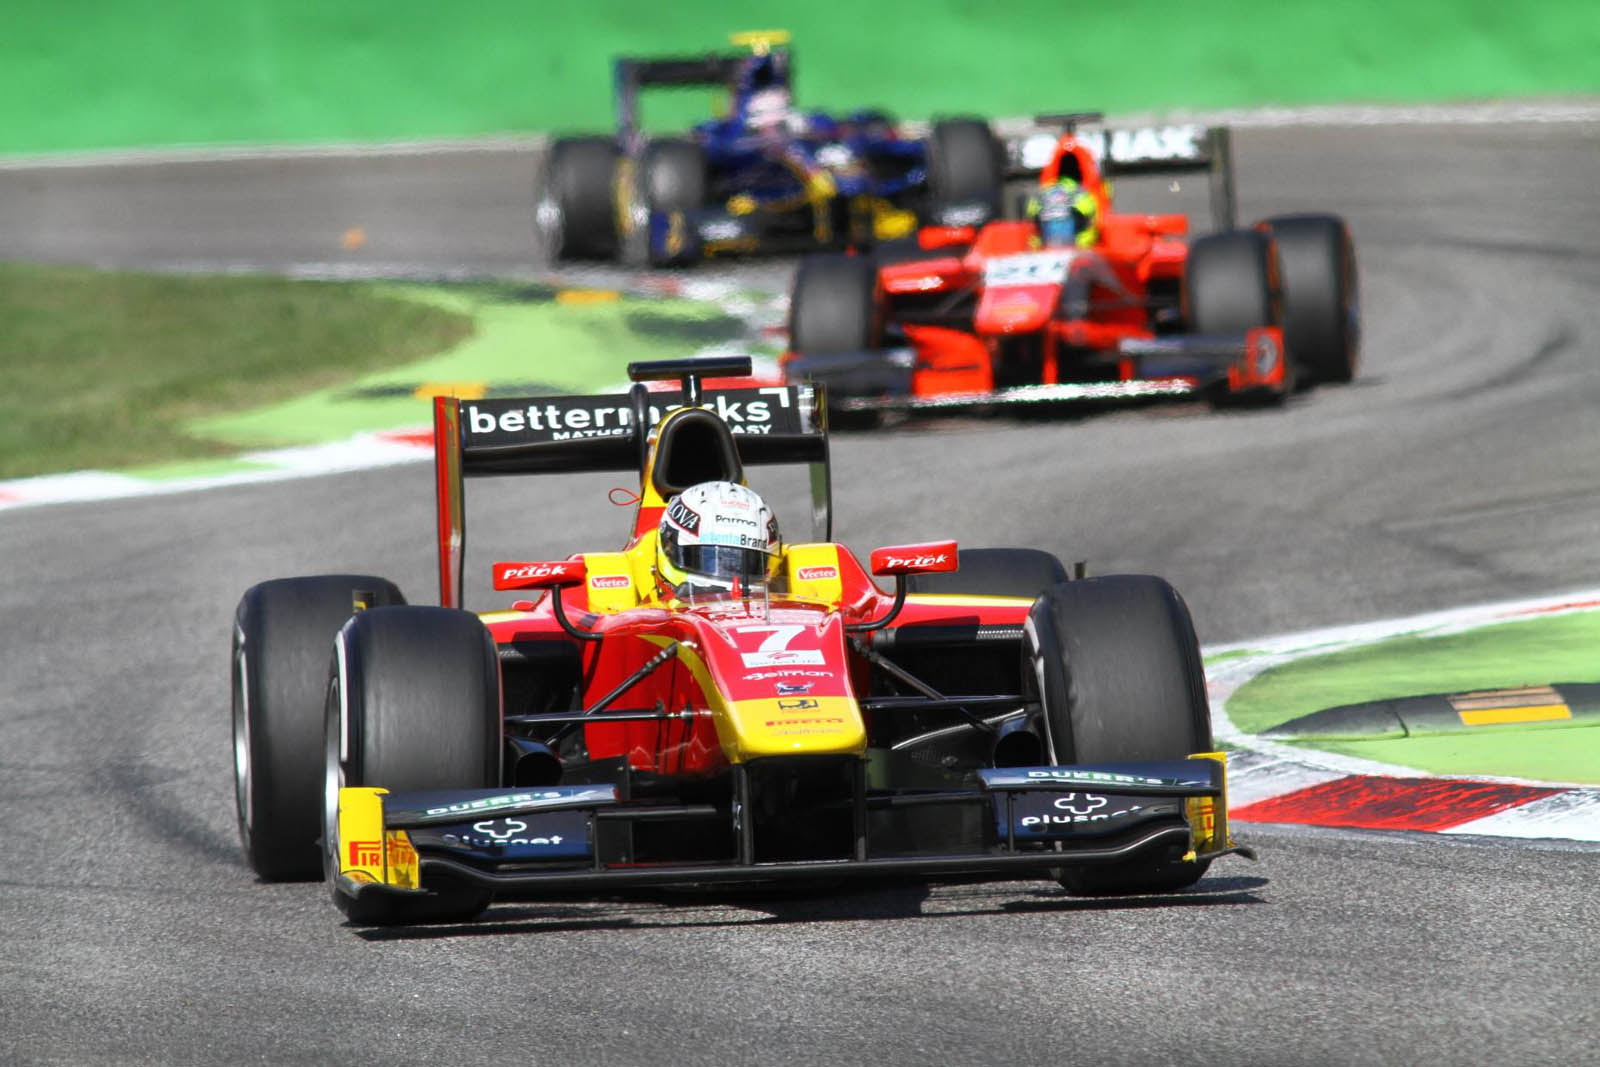race car: (221, 354, 1268, 937), (779, 110, 1365, 424), (532, 26, 1015, 279)
